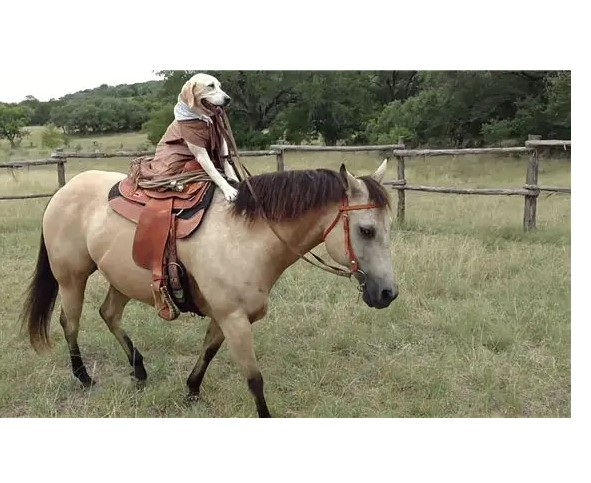dog: (151, 72, 240, 202)
horse: (21, 156, 399, 417)
